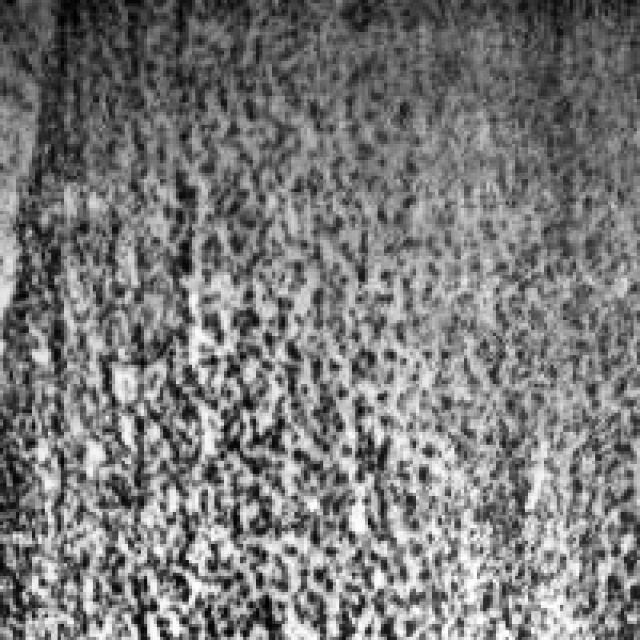Rolled_in_Scale: (0, 0, 614, 624)
